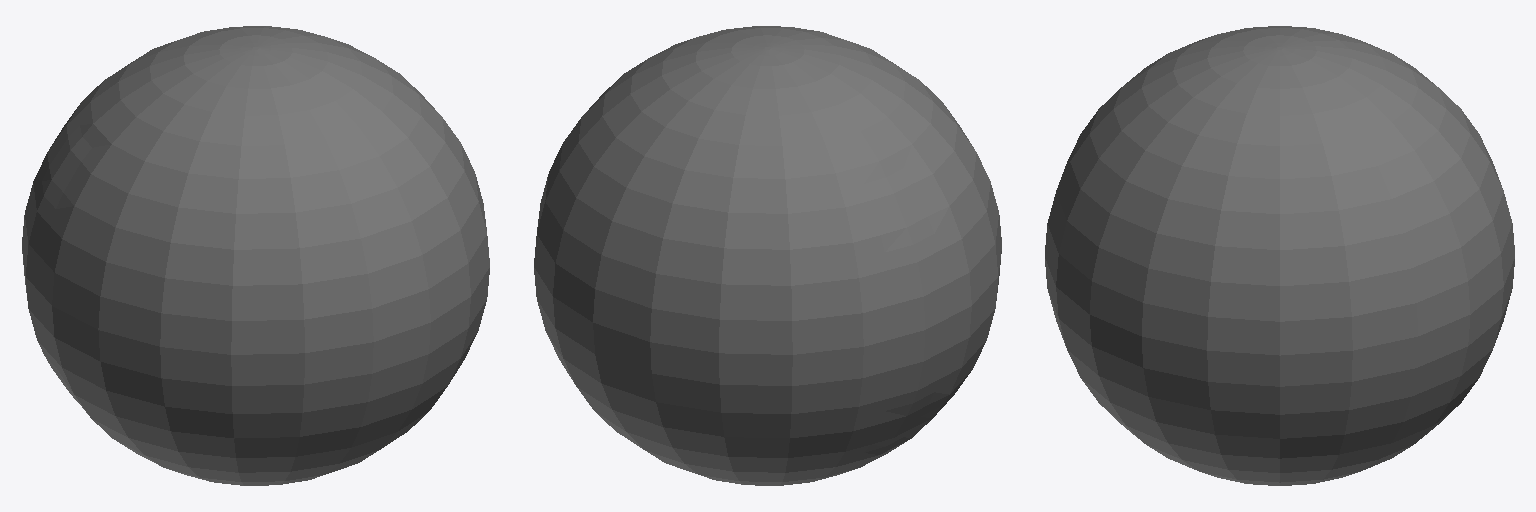
File: Uranus.obj
The picture shows the model from 3 angles: view 1: azimuth 30°, elevation 25°; view 2: azimuth 150°, elevation 25°; view 3: azimuth 270°, elevation 25°; orthographic projection.
Visible parts, largest first — view 1: Uranus; view 2: Uranus; view 3: Uranus.
Part boxes in pixels (bbox=[...]): Uranus: bbox=[22, 26, 489, 485]; Uranus: bbox=[534, 26, 1001, 485]; Uranus: bbox=[1045, 26, 1514, 485].
Bounding box in the file's own units: 102 × 98.94 × 102.